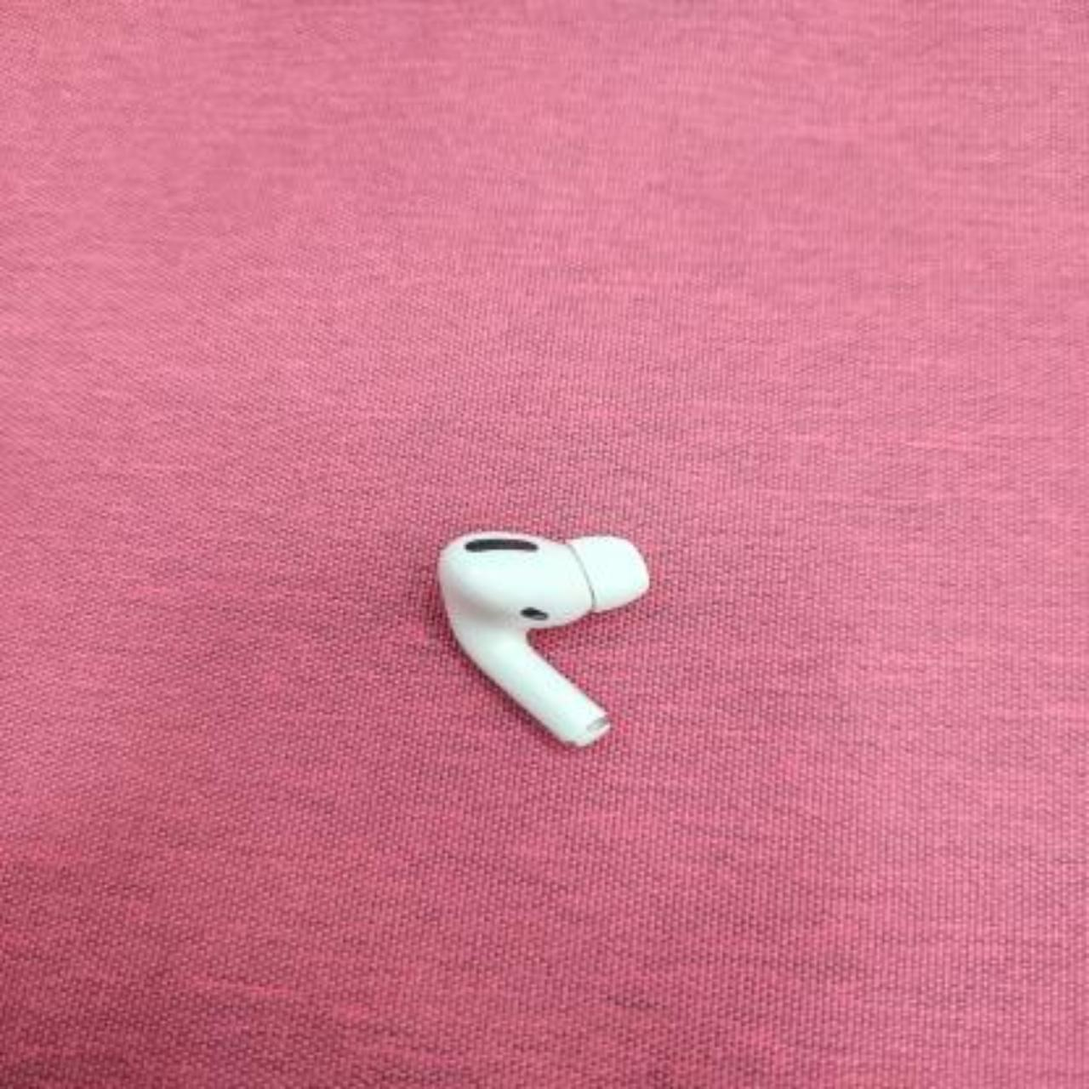Airpods_Units: (421, 506, 659, 750)
